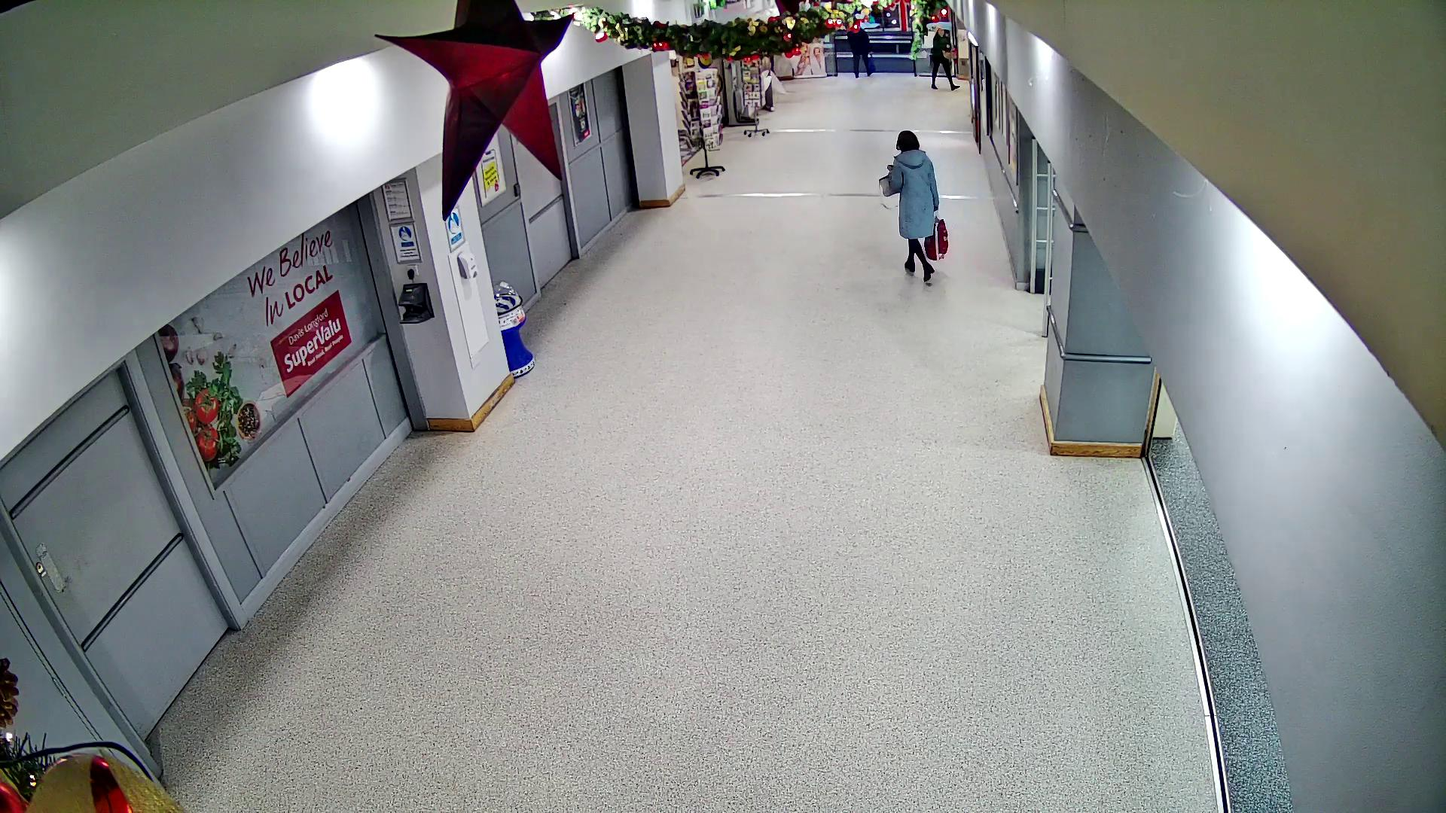backpack-or-handbag: (877, 172, 902, 197)
filled-shopping-bags: (924, 214, 949, 261)
person: (889, 130, 940, 282)
person-with-backpack-handbag-and-shopping-bag-s-: (877, 129, 949, 283)
